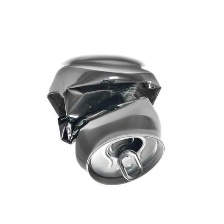can: (43, 52, 171, 187)
